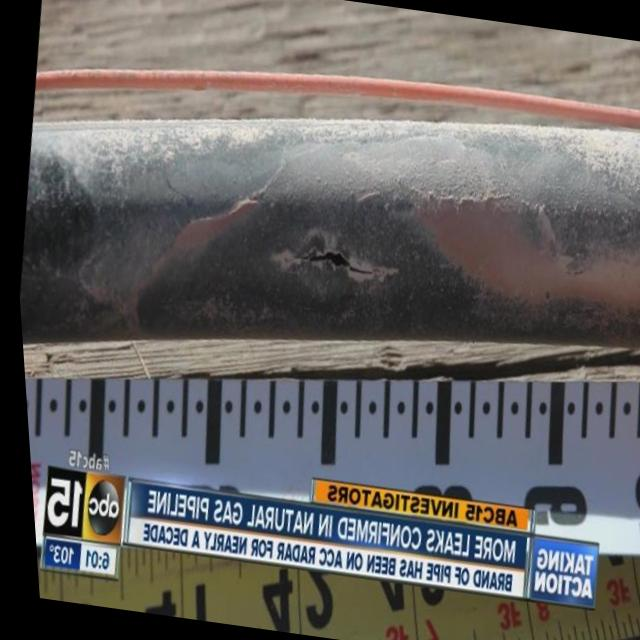leak: (309, 252, 351, 268)
